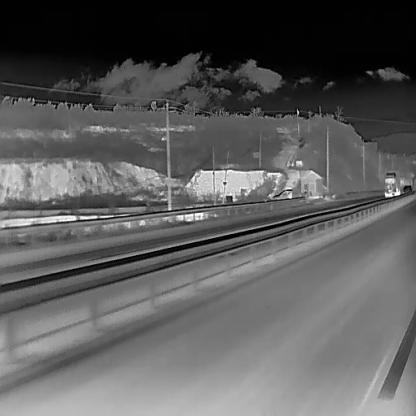car: (384, 171, 414, 198), (271, 188, 293, 201), (400, 184, 412, 196)
